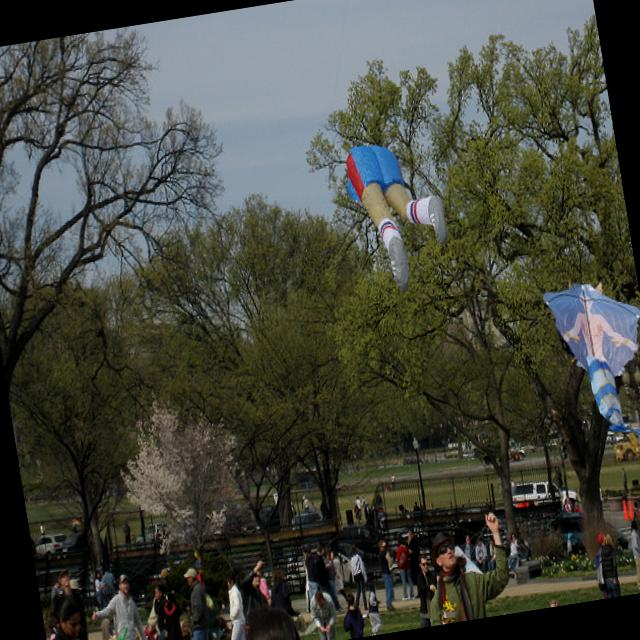Vehicle: (545, 503, 633, 565), (326, 520, 388, 562), (510, 475, 581, 510), (338, 539, 369, 589), (241, 504, 281, 534), (34, 532, 70, 563), (134, 522, 166, 545), (290, 511, 322, 525), (64, 532, 86, 552), (510, 448, 527, 462)
